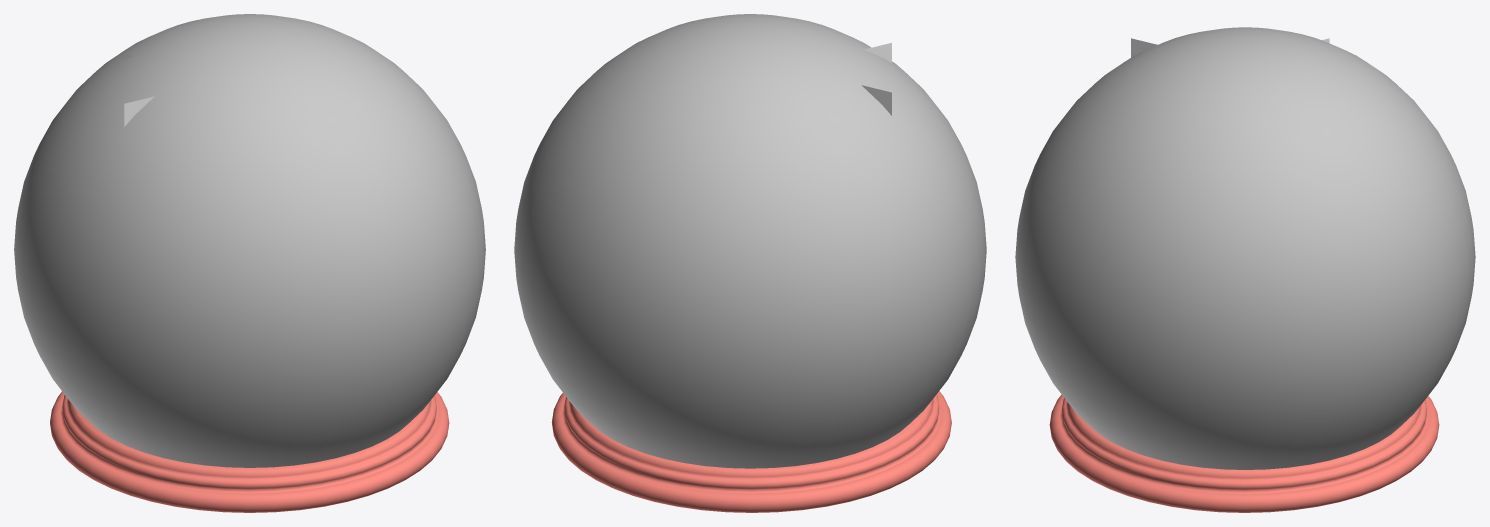
The picture shows the model from 3 angles, left to right: view 1: azimuth 30°, elevation 25°; view 2: azimuth 150°, elevation 25°; view 3: azimuth 270°, elevation 25°; orthographic projection. The views are drawn at different scales.
Parts seen in each view (by area): view 1: Mesh310_fenyofaallo_1_3_fenyofa002_1_Model; view 2: Mesh310_fenyofaallo_1_3_fenyofa002_1_Model; view 3: Mesh310_fenyofaallo_1_3_fenyofa002_1_Model.
Part boxes in pixels (<box>): Mesh310_fenyofaallo_1_3_fenyofa002_1_Model: <box>14,14,485,512</box>; Mesh310_fenyofaallo_1_3_fenyofa002_1_Model: <box>514,14,986,512</box>; Mesh310_fenyofaallo_1_3_fenyofa002_1_Model: <box>1015,27,1475,512</box>.
Bounding box in the file's own units: 0.9998 × 0.9245 × 0.9998.
9 materials, 3 textured.
